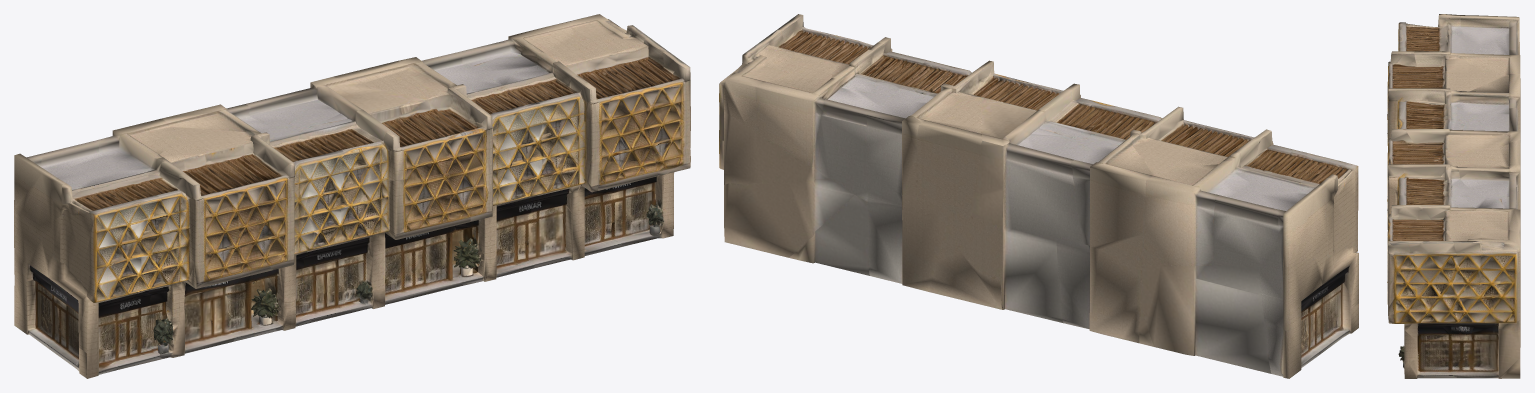
File: shophouse_lod1.glb
The picture shows the model from 3 angles, left to right: view 1: azimuth 30°, elevation 25°; view 2: azimuth 150°, elevation 25°; view 3: azimuth 270°, elevation 25°; orthographic projection. The views are drawn at different scales.
Parts seen in each view (by area): view 1: mesh_node; view 2: mesh_node; view 3: mesh_node.
Part boxes in pixels (x1=…): mesh_node: x1=14, y1=14, x2=690, y2=378; mesh_node: x1=719, y1=14, x2=1358, y2=378; mesh_node: x1=1387, y1=14, x2=1520, y2=378.
Bounding box in the file's own units: 1.9 × 0.5361 × 0.4644.
Materials: 1 (1 with a texture image).
